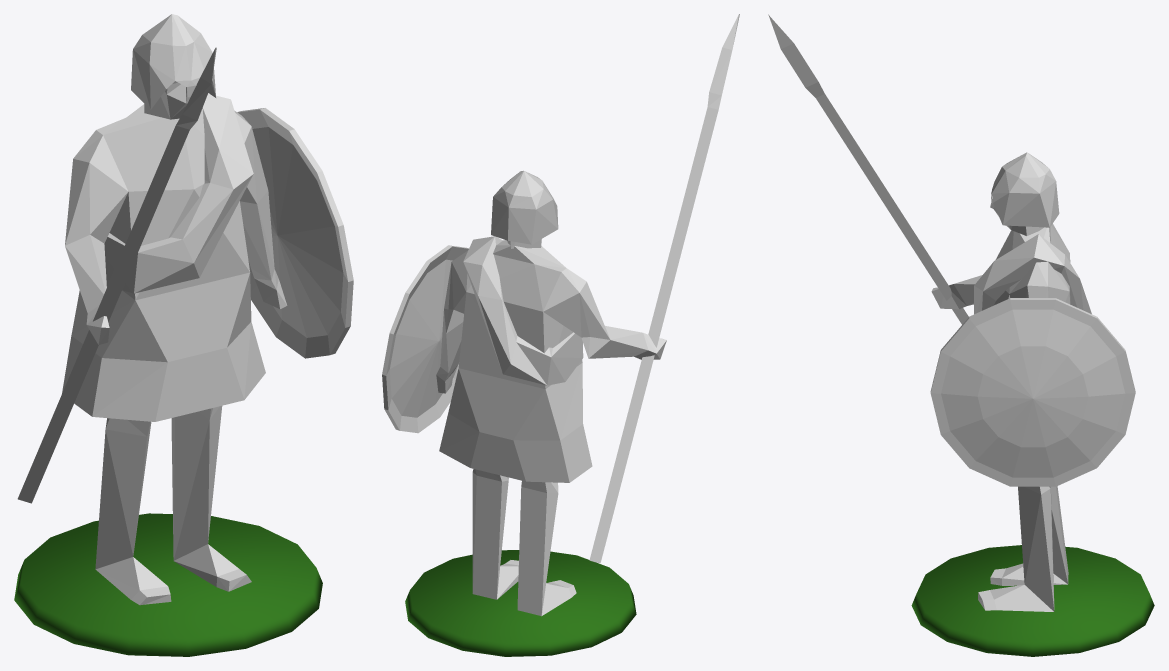
File: numidian_spearman.glb
The picture shows the model from 3 angles, left to right: view 1: azimuth 30°, elevation 25°; view 2: azimuth 150°, elevation 25°; view 3: azimuth 270°, elevation 25°; orthographic projection. The views are drawn at different scales.
Parts seen in each view (by area): view 1: numidian_spearman; view 2: numidian_spearman; view 3: numidian_spearman.
Part boxes in pixels (x1,y1,x2,y2): numidian_spearman: (14, 14, 353, 656); numidian_spearman: (382, 14, 739, 656); numidian_spearman: (768, 14, 1154, 656).
Bounding box in the file's own units: 2.01 × 4.95 × 3.18.
